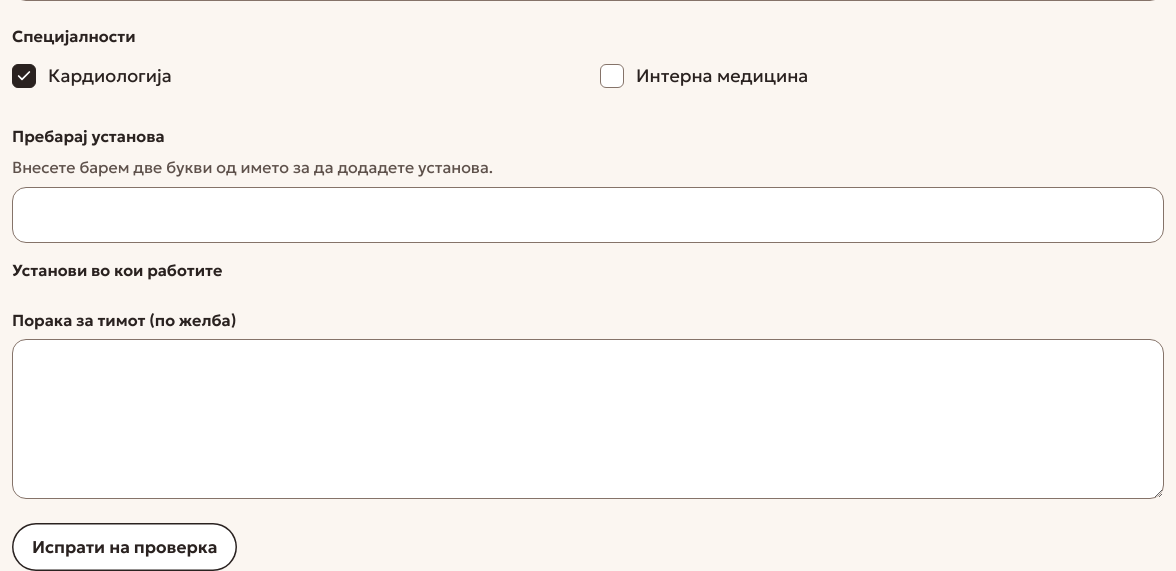
Test: DoctorChangeRequestForm › says so when nothing differs from the profile
The width and height of the screenshot is (1176, 571).
(page scrolled)
Click the button "Испрати на проверка".
click(125, 547)  # box top-left (12, 523), bottom-right (237, 570)
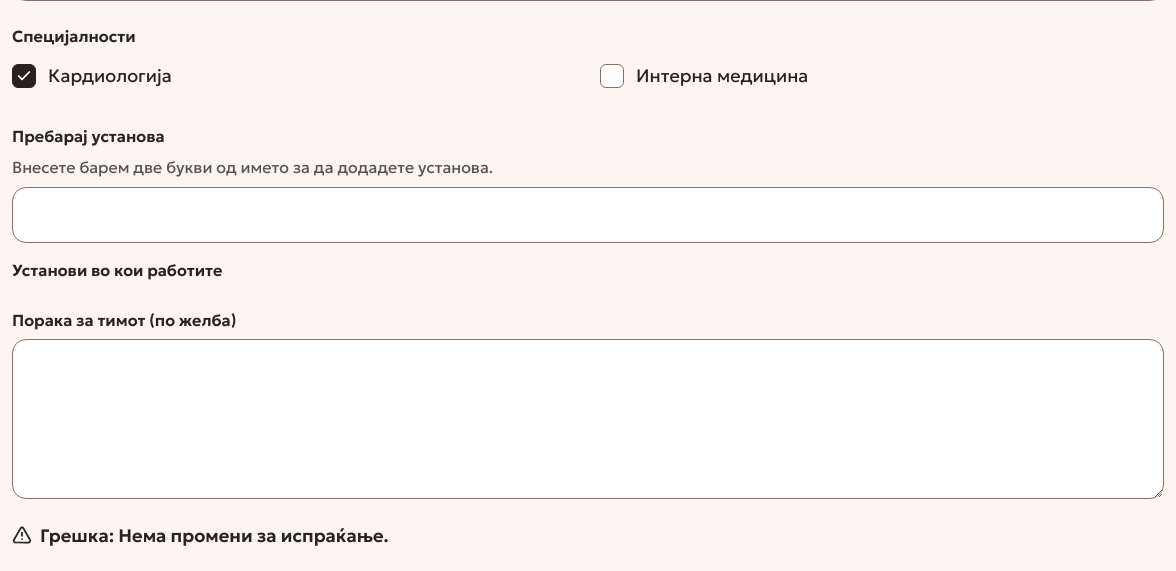
Now the message shows "Нема промени за испраќање.", box top-left (118, 524), bottom-right (389, 547)
